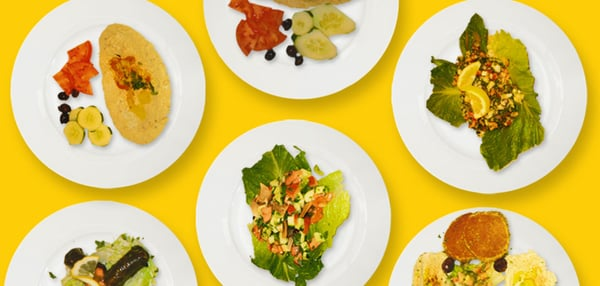curry: (1, 0, 598, 283)
